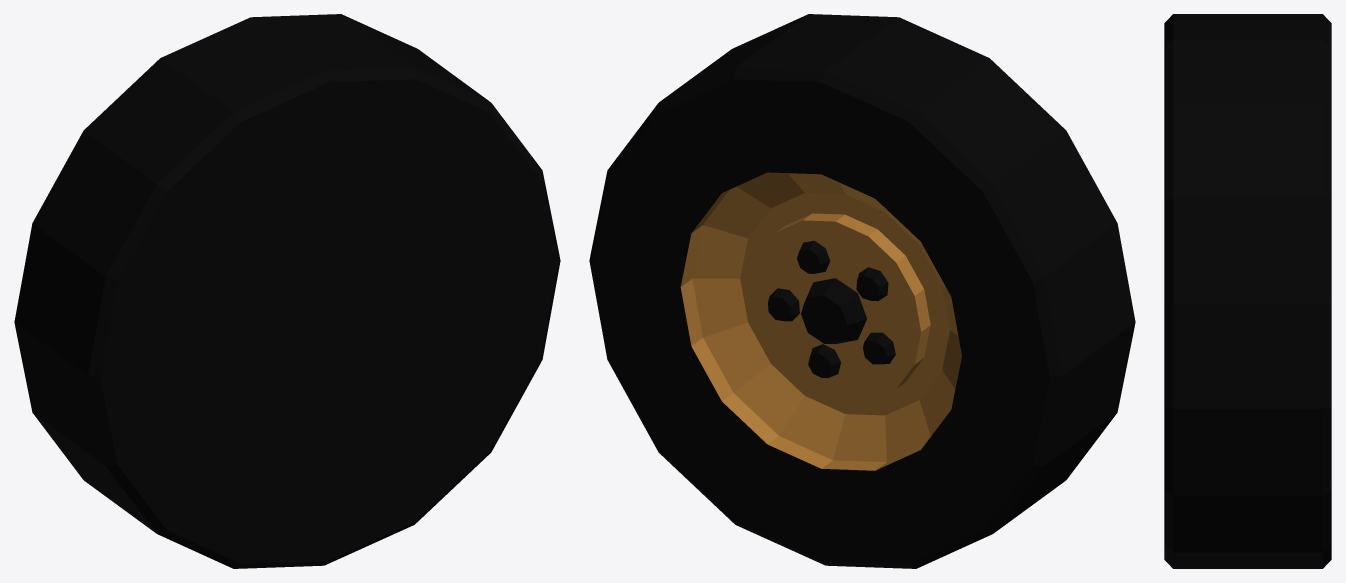
The model's file is car-wheel.glb.
The picture shows the model from 3 angles, left to right: view 1: azimuth 30°, elevation 25°; view 2: azimuth 150°, elevation 25°; view 3: azimuth 270°, elevation 25°; orthographic projection.
Parts seen in each view (by area): view 1: rrWheel.001; view 2: rrWheel.001; view 3: rrWheel.001.
Part boxes in pixels (<box>): rrWheel.001: <box>14,14,560,568</box>; rrWheel.001: <box>589,14,1135,568</box>; rrWheel.001: <box>1164,14,1331,568</box>.
Bounding box in the file's own units: 1.15 × 1.15 × 0.3451.
1 material, 1 textured.
